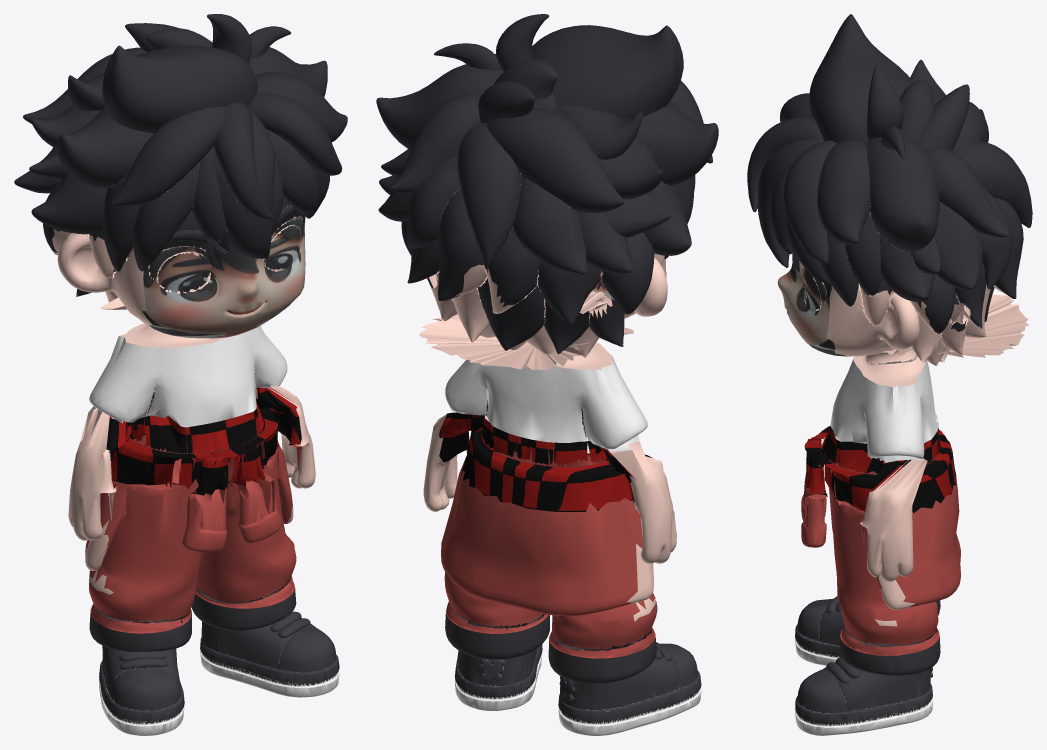
The model's file is mascot-3d.glb.
The picture shows the model from 3 angles, left to right: view 1: azimuth 30°, elevation 25°; view 2: azimuth 150°, elevation 25°; view 3: azimuth 270°, elevation 25°; orthographic projection. The views are drawn at different scales.
Visible parts, largest first — view 1: Chibi; view 2: Chibi, JawPlug; view 3: Chibi, JawPlug.
Part boxes in pixels (<box>): Chibi: <box>14,14,347,735</box>; Chibi: <box>376,14,718,735</box>; JawPlug: <box>419,290,633,370</box>; Chibi: <box>747,14,1032,735</box>; JawPlug: <box>861,292,1028,357</box>.
Bounding box in the file's own units: 0.843 × 1.8 × 0.7377.
Materials: 8 (2 with a texture image).
